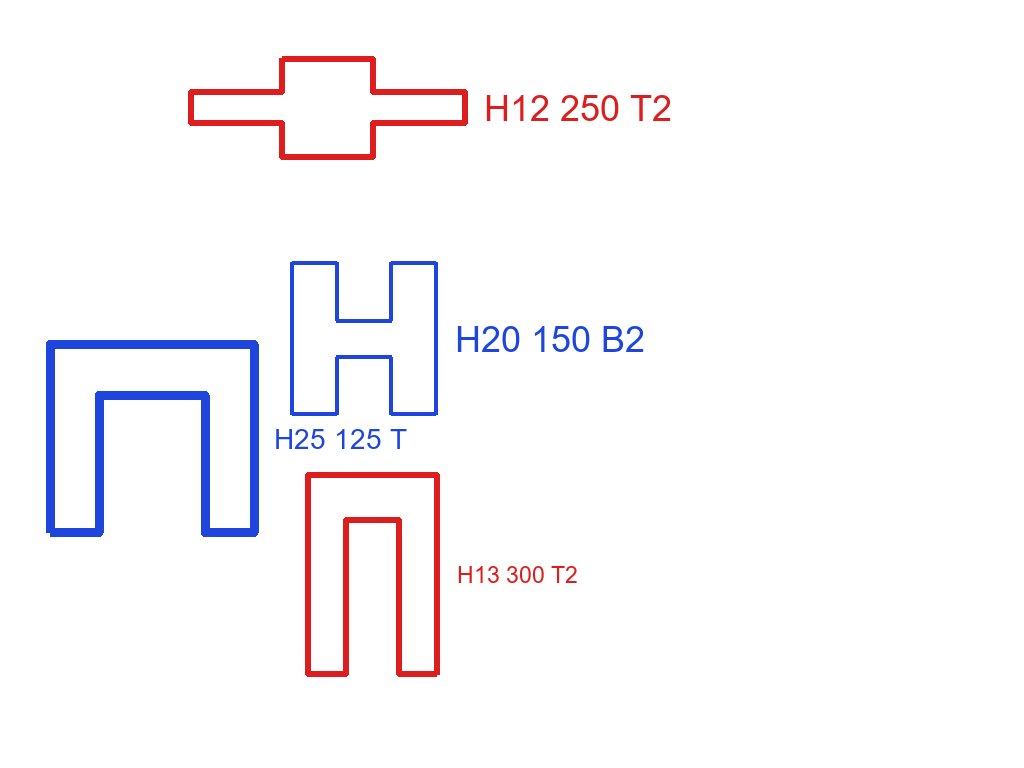shape: (44, 338, 261, 539), (186, 53, 469, 163), (303, 469, 442, 679), (289, 259, 439, 419)
text: (453, 324, 647, 354), (482, 93, 674, 123), (272, 427, 409, 451), (455, 564, 580, 585)
